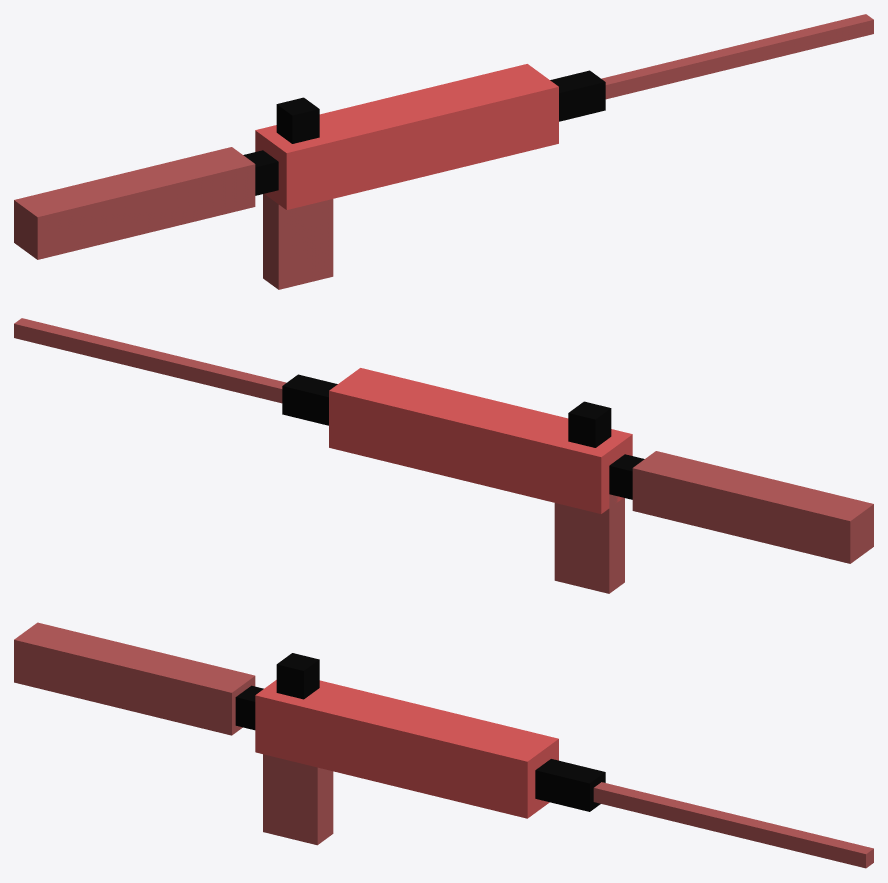
The model's file is red.glb.
The picture shows the model from 3 angles, top to bottom: view 1: azimuth 30°, elevation 25°; view 2: azimuth 150°, elevation 25°; view 3: azimuth 330°, elevation 25°; orthographic projection.
Visible parts, largest first — view 1: MainBody, Stock, Barrel, Handle, BarrelConnector, HandleConnector, StockConnector; view 2: MainBody, Stock, Barrel, Handle, BarrelConnector, HandleConnector, StockConnector; view 3: MainBody, Stock, Barrel, Handle, BarrelConnector, HandleConnector, StockConnector.
Boxes of the visible parts, box(x1,y1,x2,y2) form: MainBody: box(255, 64, 558, 209); Stock: box(14, 147, 255, 259); Barrel: box(601, 14, 873, 99); Handle: box(263, 194, 333, 289); BarrelConnector: box(550, 70, 605, 121); HandleConnector: box(276, 97, 319, 143); StockConnector: box(243, 150, 278, 195); MainBody: box(329, 368, 632, 513); Stock: box(632, 451, 873, 563); Barrel: box(14, 318, 286, 403); Handle: box(554, 494, 624, 593); BarrelConnector: box(282, 374, 337, 425); HandleConnector: box(568, 401, 611, 447); StockConnector: box(609, 454, 644, 499); MainBody: box(255, 680, 558, 818); Stock: box(14, 622, 255, 735); Barrel: box(593, 782, 873, 868); Handle: box(263, 754, 333, 845); BarrelConnector: box(535, 759, 605, 811); HandleConnector: box(276, 653, 319, 699); StockConnector: box(235, 685, 263, 730).
Size of the model in its own units: 3.1 by 0.6 by 0.2.
